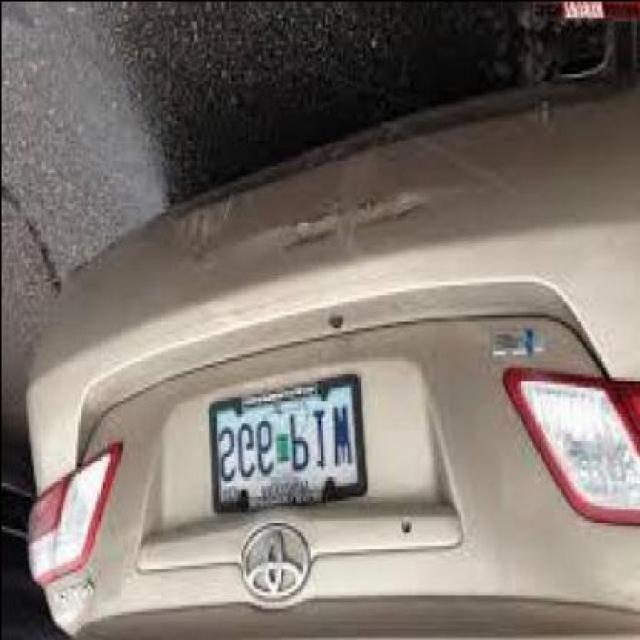damage: (150, 173, 449, 265)
